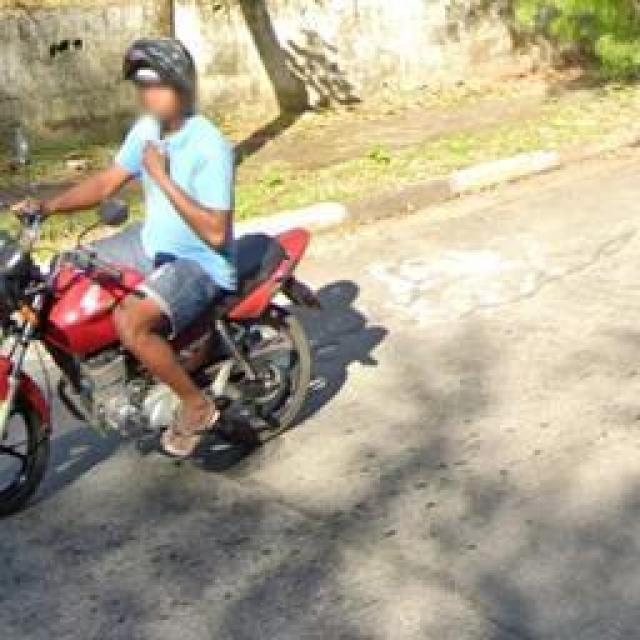Motor: (0, 208, 328, 515)
